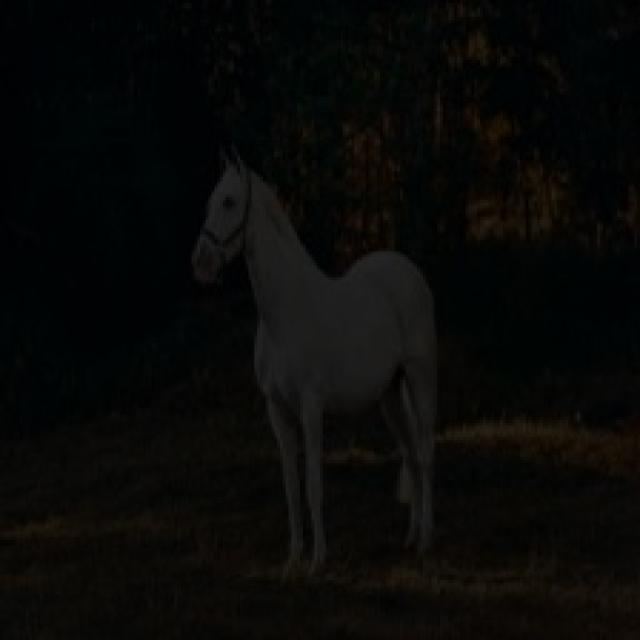animal: (161, 116, 511, 575)
